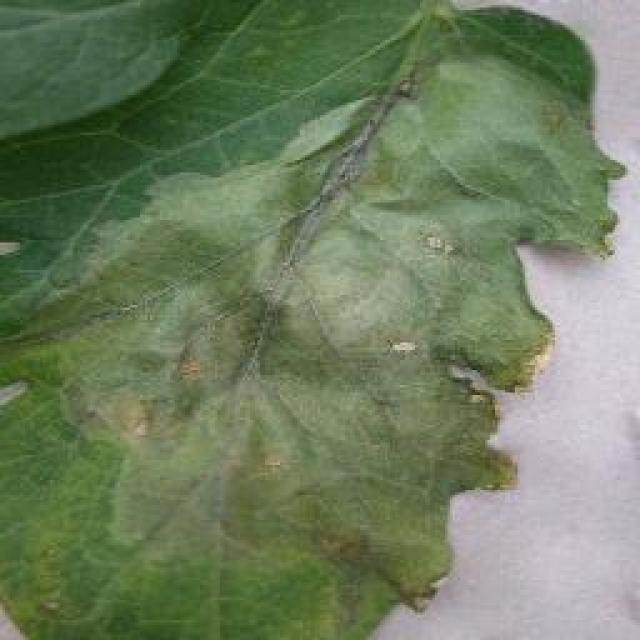Tomato___Late_blight: (0, 0, 620, 638)
